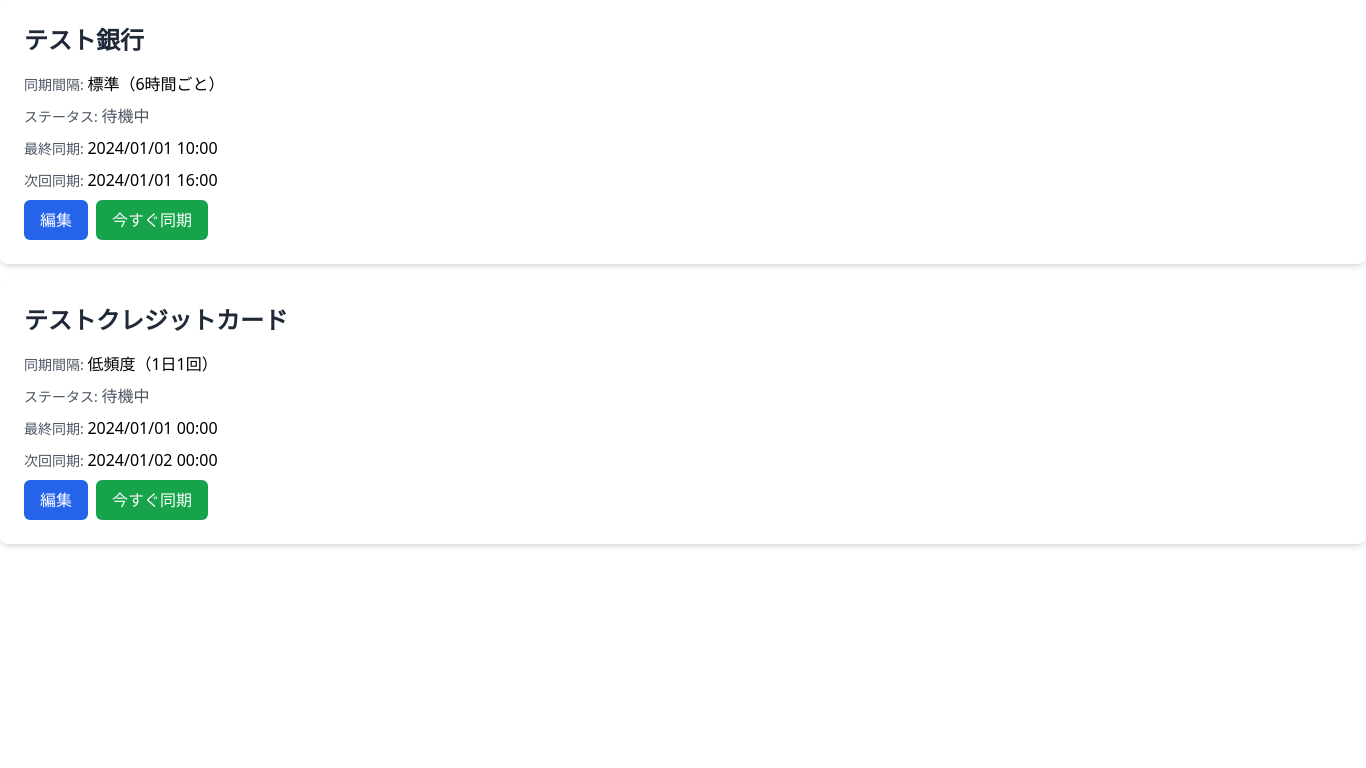
Scenario: InstitutionSettingsTab › 編集ボタンをクリックすると編集フォームが表示される
Expected: the heading "テスト銀行" is shown, x1=24 y1=23 x2=144 y2=56
# 編集ボタンをクリック
Click the button "編集" below "2024/01/01 16:00" at (56, 220), box x1=24 y1=200 x2=88 y2=240
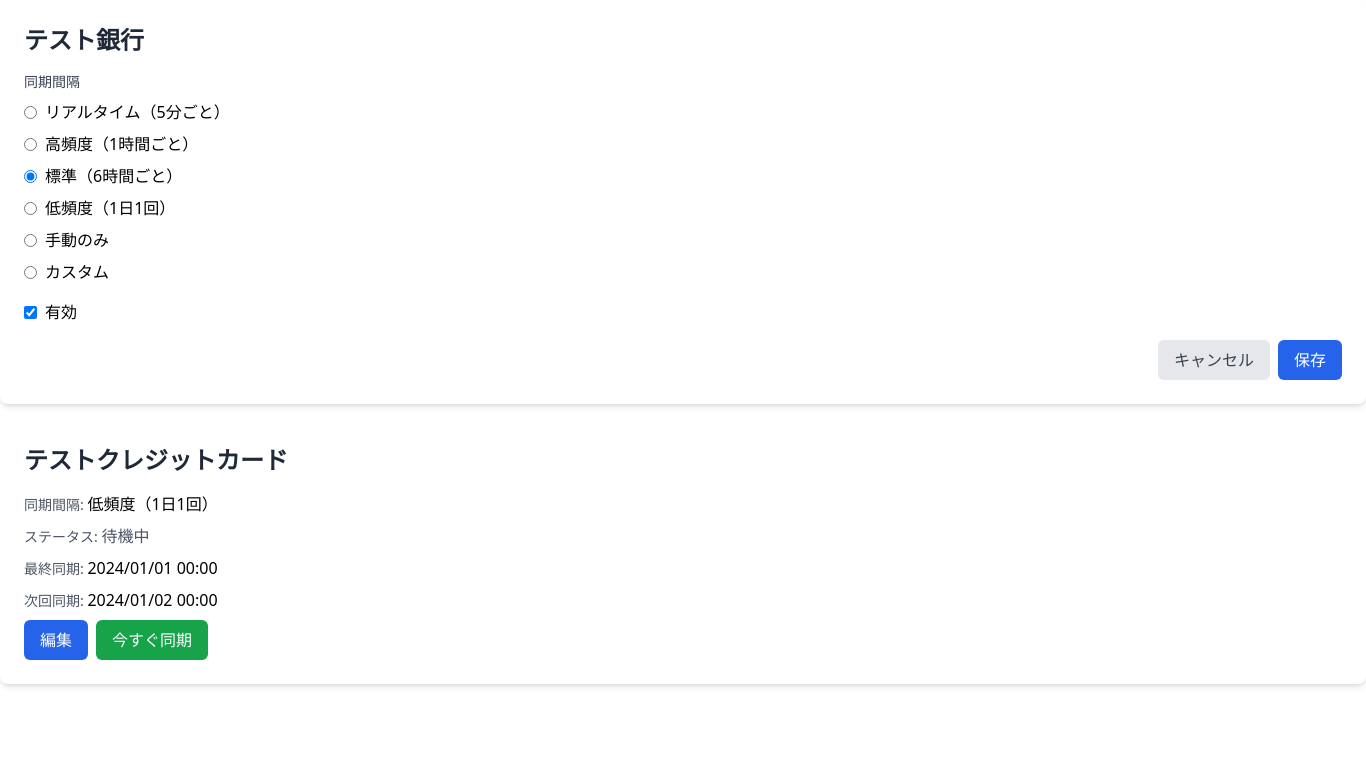
Expected: the text "同期間隔" is shown, x1=24 y1=72 x2=80 y2=91
Result: the radio button labelled "標準（6時間ごと）" is shown at x1=24 y1=170 x2=37 y2=182
